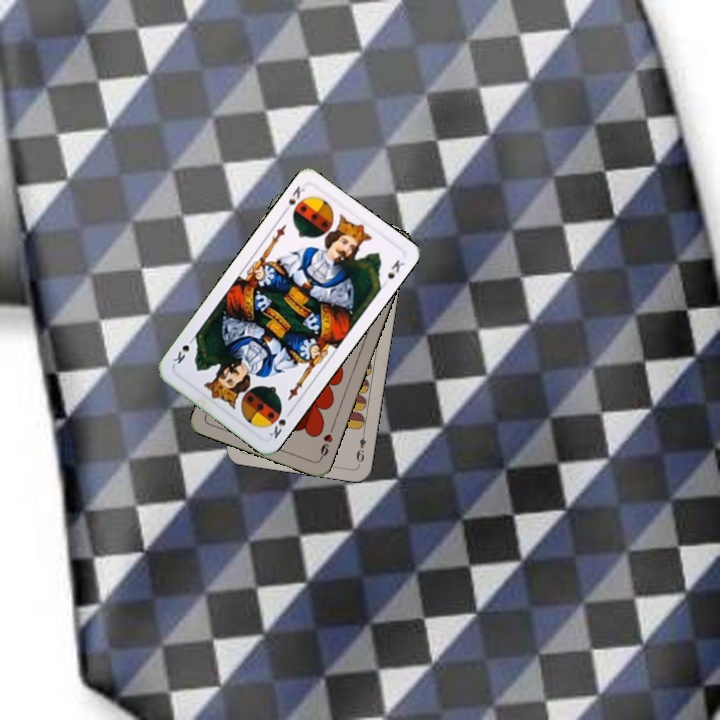E9: (352, 426, 368, 466)
H9: (316, 422, 336, 462)
SK: (265, 404, 295, 441), (279, 182, 307, 216)
